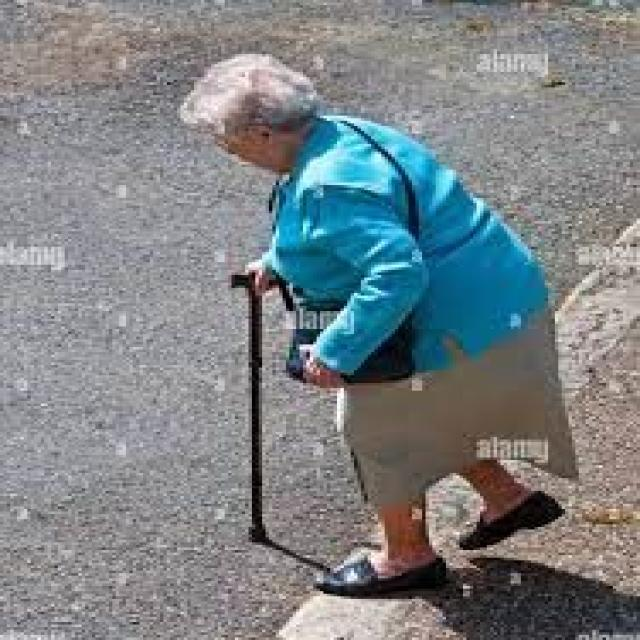idoso em pe: (170, 55, 571, 590)
